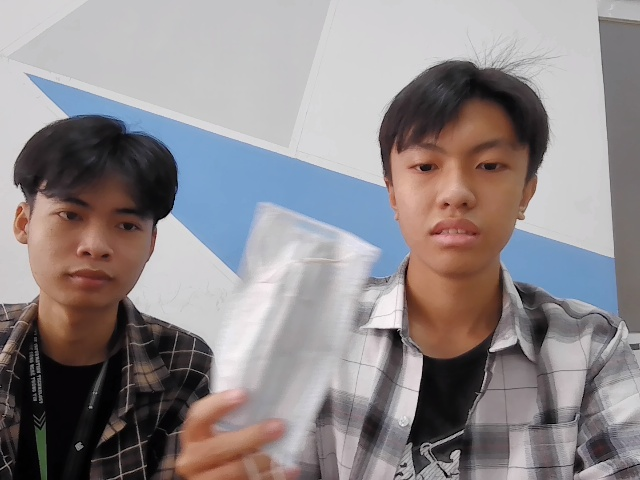human: (377, 52, 555, 278), (14, 104, 179, 316)
mask: (210, 198, 374, 461)
